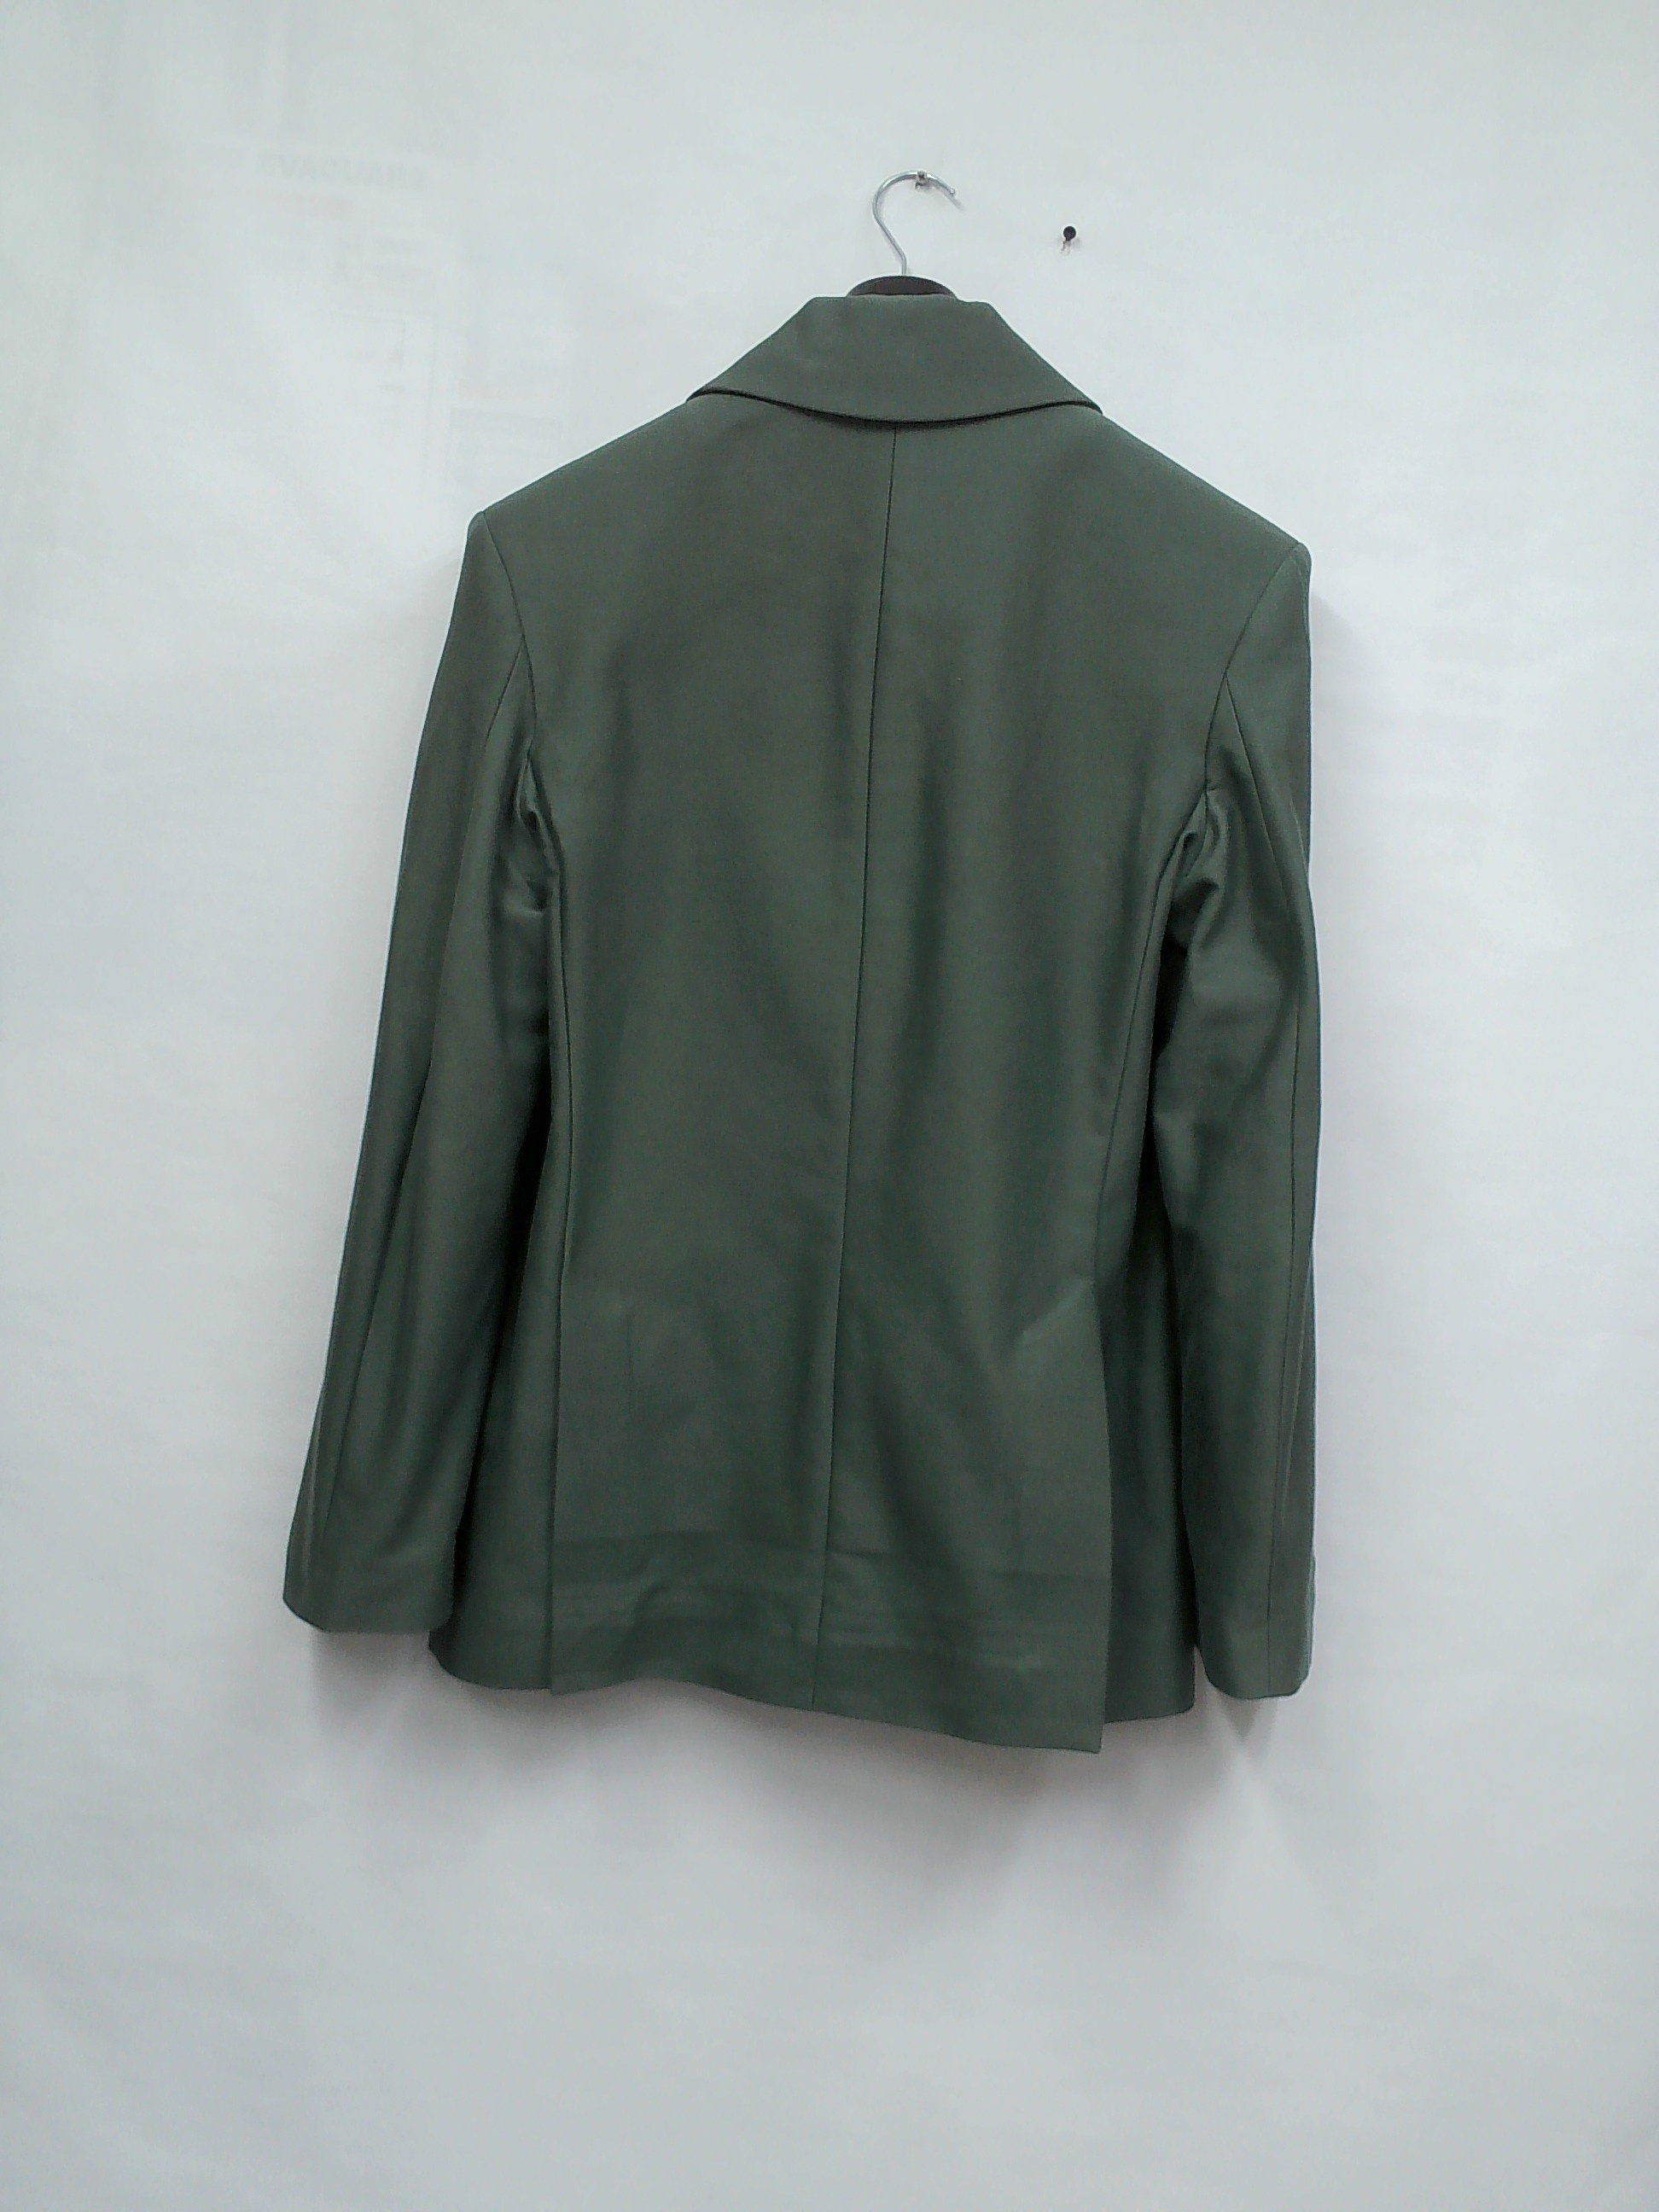seam: (1155, 737, 1281, 862), (484, 730, 599, 848)
